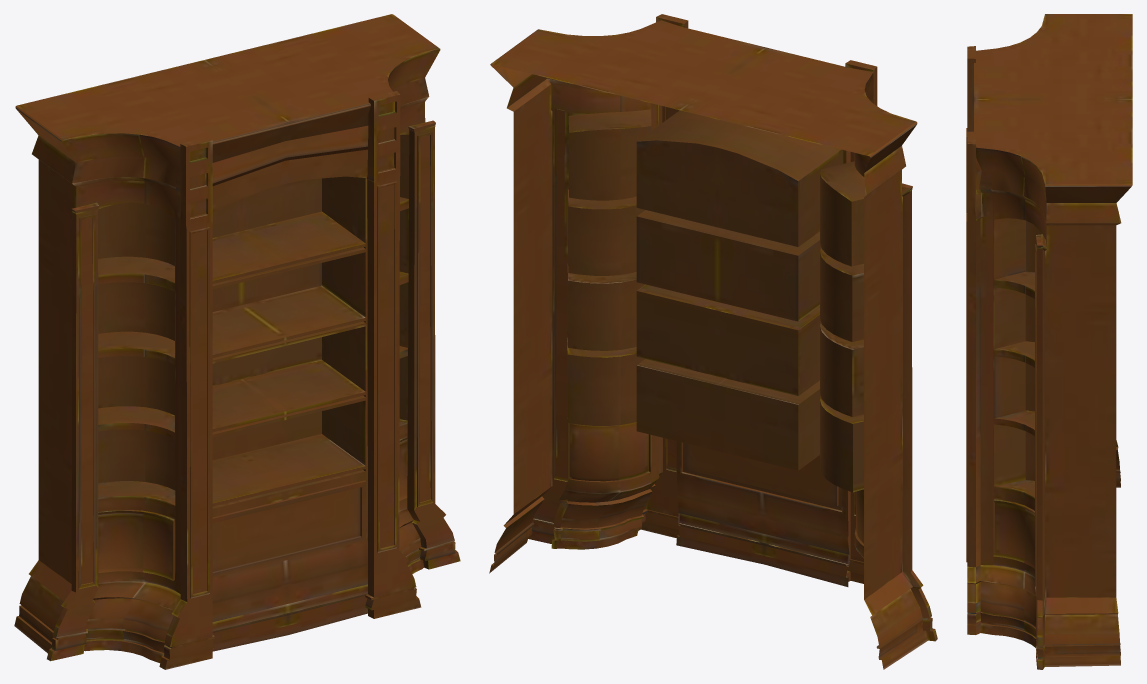
Rendered from wardrobe.gltf.
3 renders of one model, left to right at view 1: azimuth 30°, elevation 25°; view 2: azimuth 150°, elevation 25°; view 3: azimuth 270°, elevation 25°, orthographic. The views are drawn at different scales.
Parts seen in each view (by area): view 1: wardrobe; view 2: wardrobe; view 3: wardrobe.
Boxes of the visible parts, x1,y1,x2,y2 form: wardrobe: (14,14,460,669); wardrobe: (489,14,937,669); wardrobe: (966,14,1132,669).
Bounding box in the file's own units: 1.75 × 2.1 × 0.6584.
Materials: 1 (1 with a texture image).
